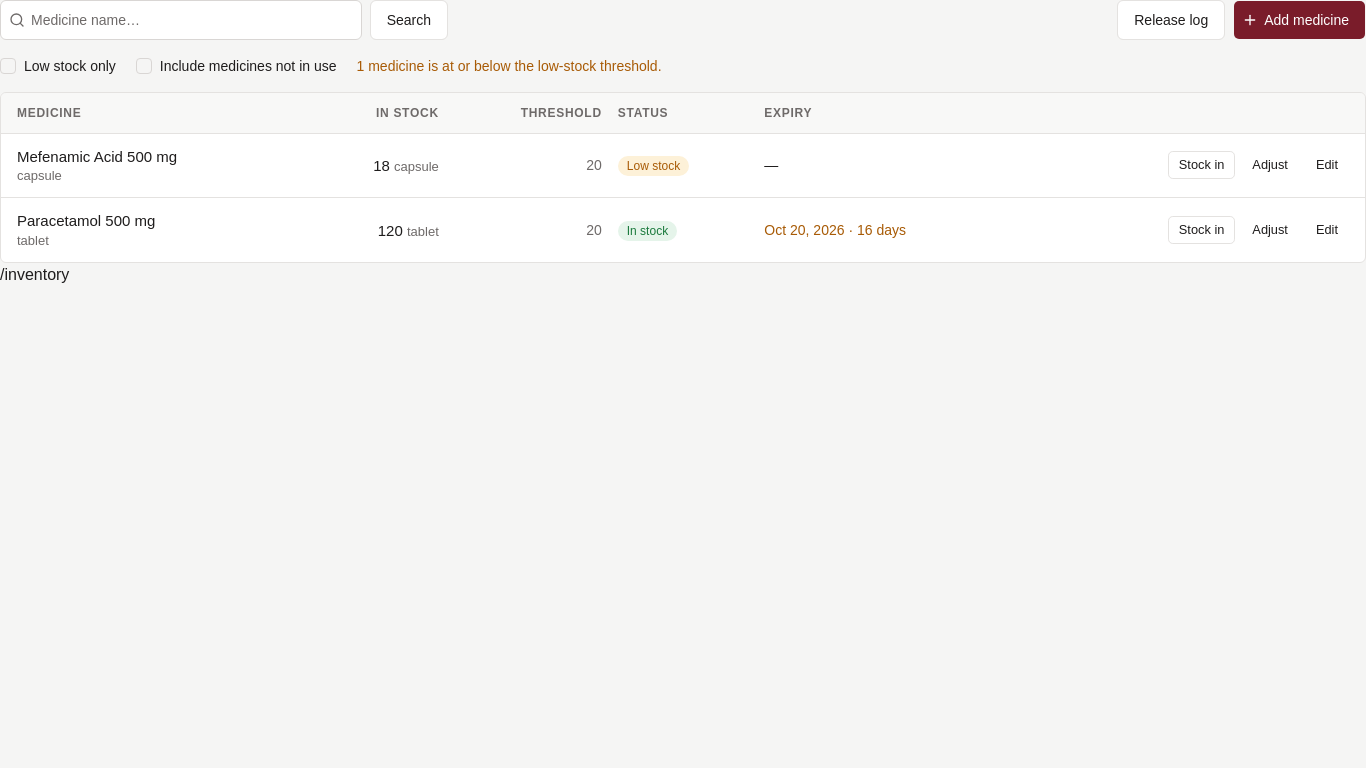
Test case: records a delivery and shows what the stock will be
Step 1. Click the button with aria-label "Stock in Mefenamic Acid 500 mg" → click(1202, 166), box [1168,152,1235,180]
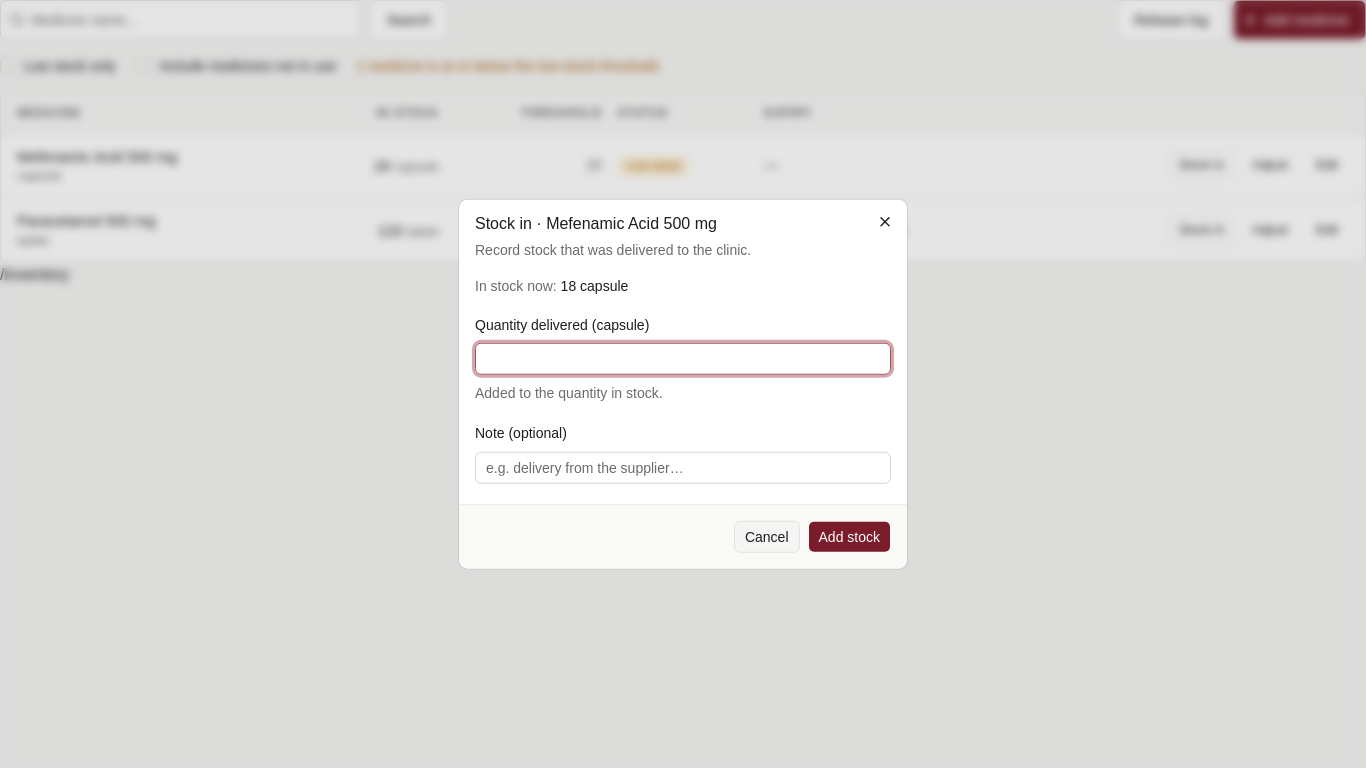
Step 2. Click the button "Add stock" → click(849, 536), box [808,520,891,552]
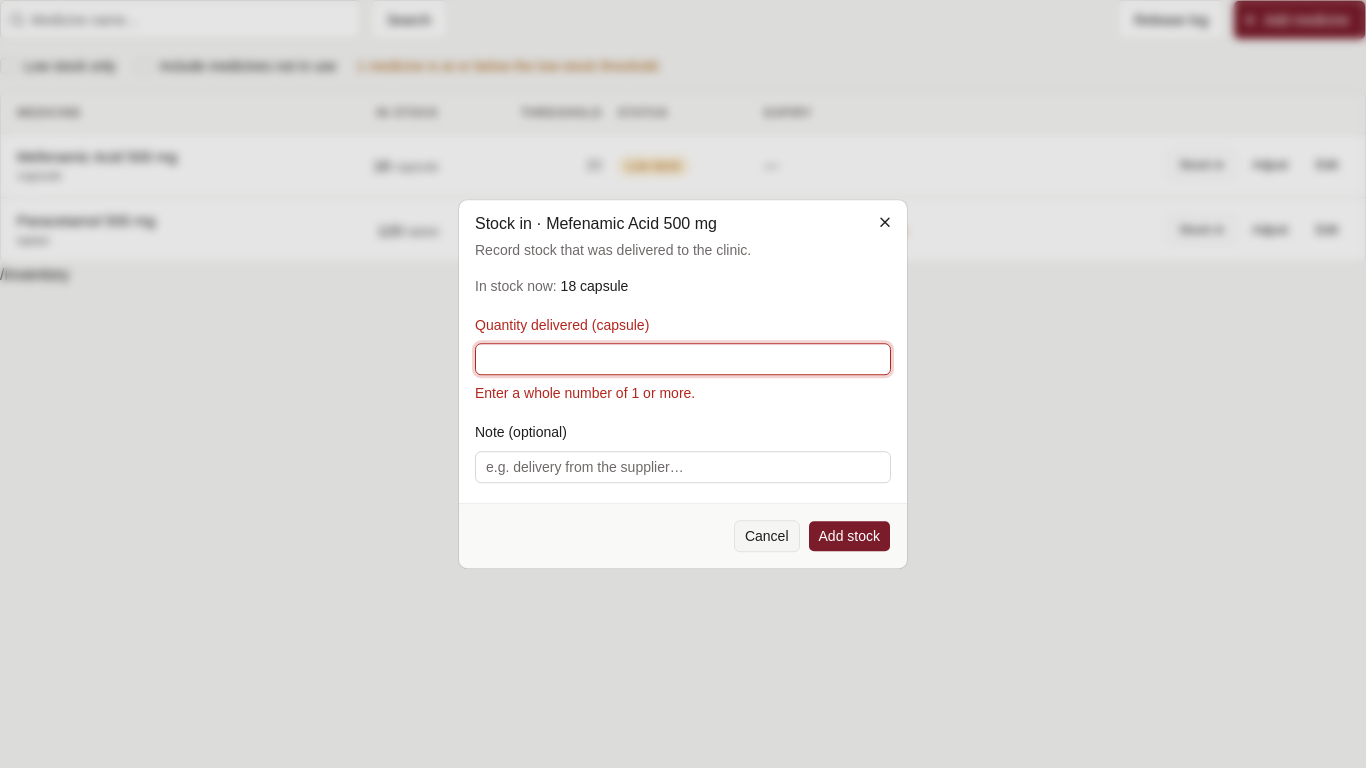
Expected: the text "Enter a whole number of 1 or more." is shown, [475,386,695,402]
Step 3. Type "50" into the field labelled "Quantity delivered (capsule)" → (683, 360), box [475,344,891,376]
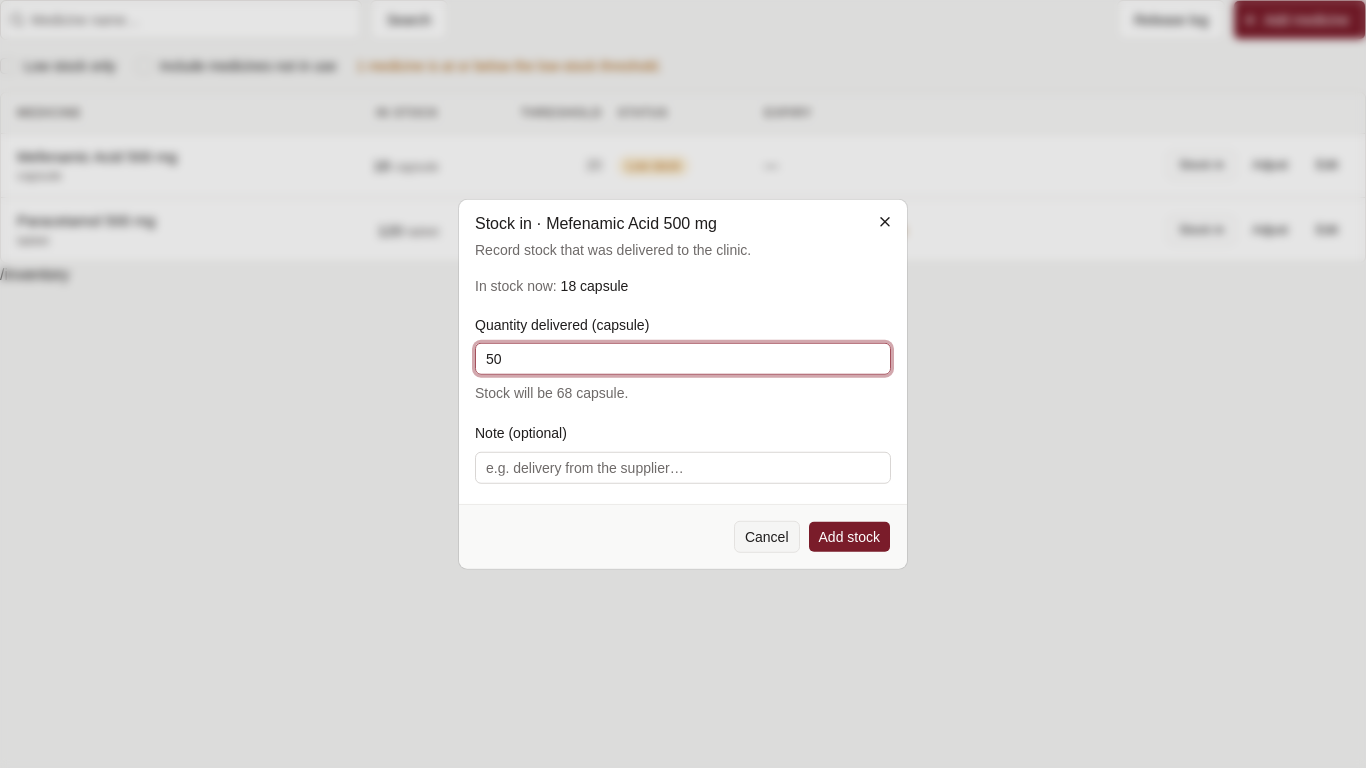
Expected: the text "Stock will be 68 capsule." is shown, [475,385,628,401]
Step 4. Click the button "Add stock" → click(849, 536), box [808,520,891,552]
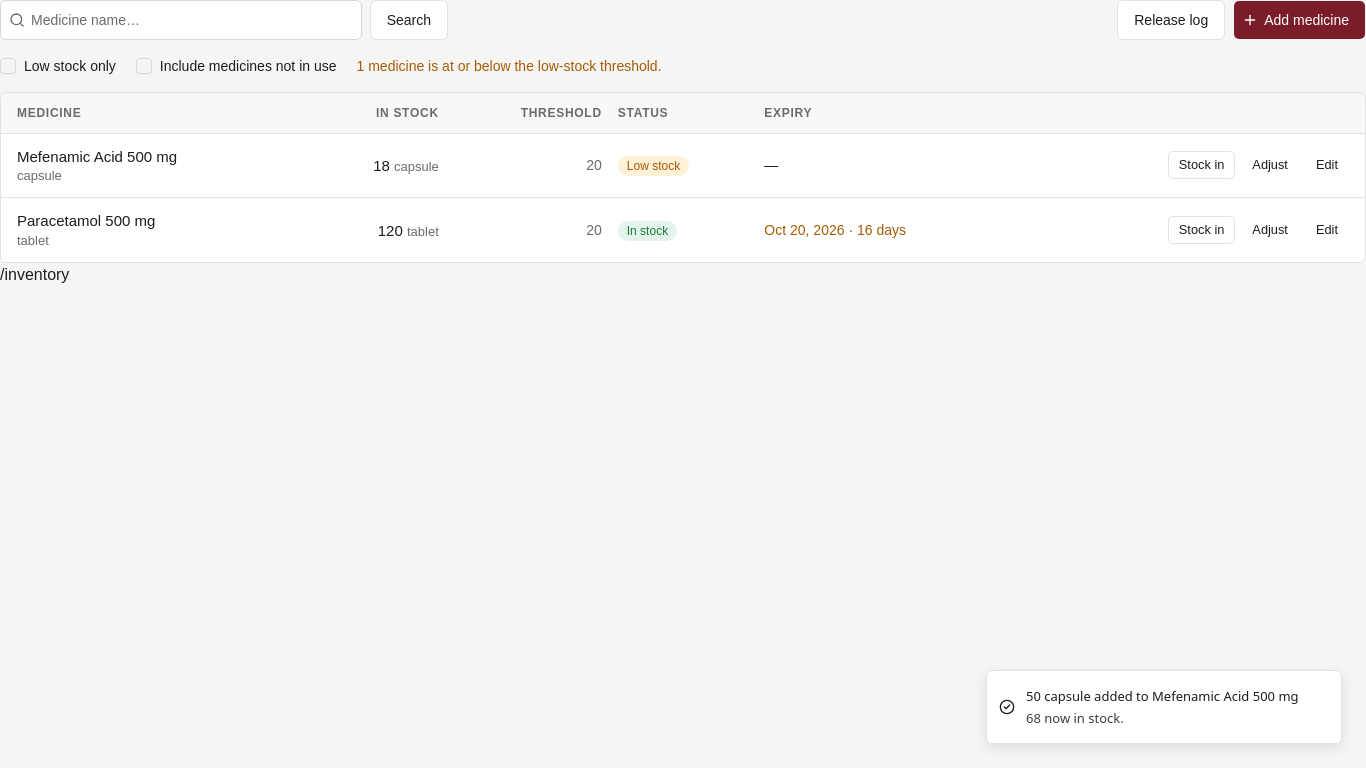
Expected: the text "50 capsule added to Mefenamic Acid 500 mg" is shown, [1026,687,1298,707]
